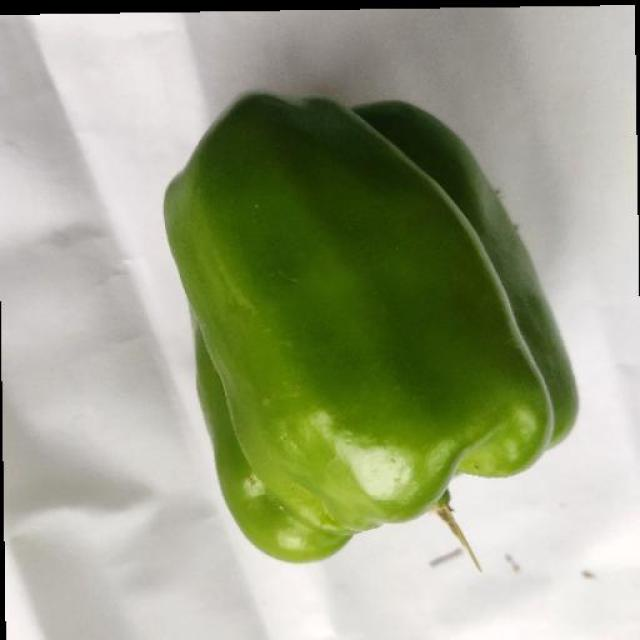Fresh_Capsicum: (155, 103, 576, 557)
